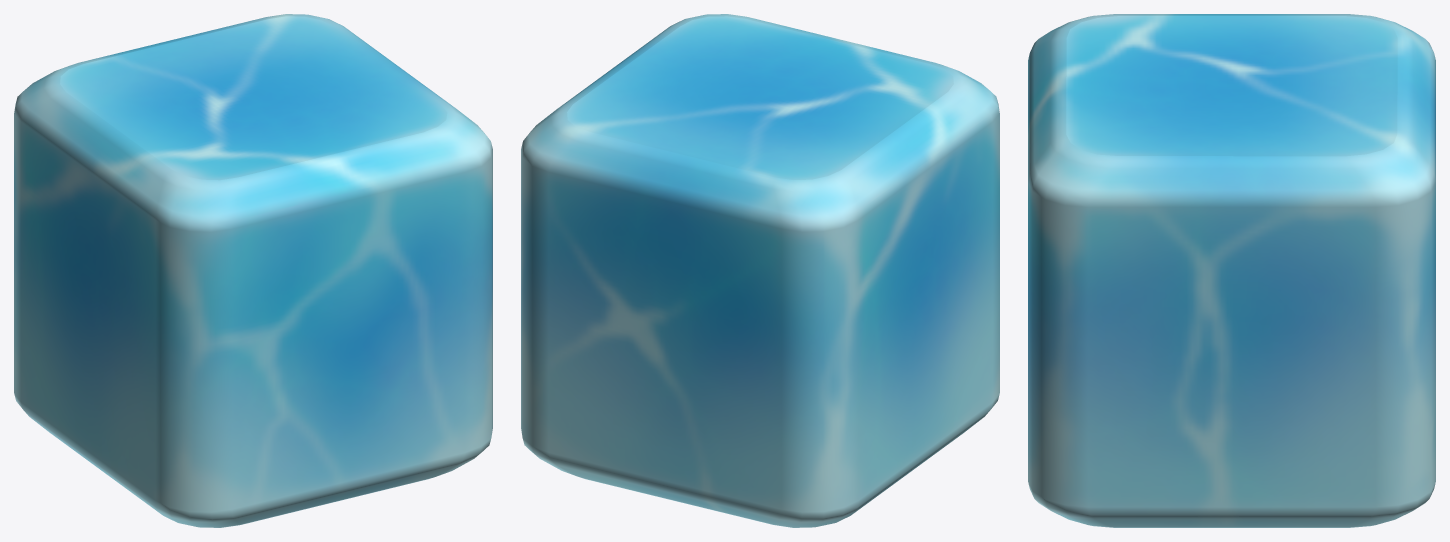
The model's file is Ice_Block_01.fbx.
The picture shows the model from 3 angles, left to right: view 1: azimuth 30°, elevation 25°; view 2: azimuth 150°, elevation 25°; view 3: azimuth 270°, elevation 25°; orthographic projection. The views are drawn at different scales.
Parts seen in each view (by area): view 1: Ice_Block_01; view 2: Ice_Block_01; view 3: Ice_Block_01.
Part boxes in pixels (bbox=[...]): Ice_Block_01: bbox=[14, 14, 492, 527]; Ice_Block_01: bbox=[521, 14, 999, 527]; Ice_Block_01: bbox=[1028, 14, 1435, 527].
Size of the model in its own units: 1 by 1 by 1.
1 material, 1 textured.
